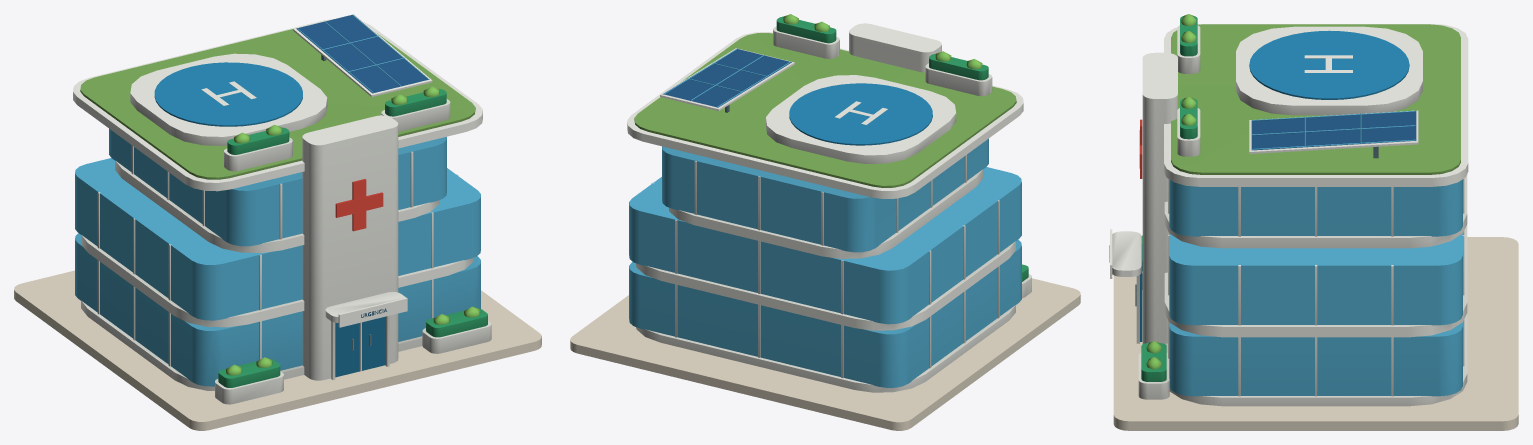
Rendered from hospital-low.glb.
3 renders of one model, left to right at view 1: azimuth 30°, elevation 25°; view 2: azimuth 150°, elevation 25°; view 3: azimuth 270°, elevation 25°, orthographic. The views are drawn at different scales.
Visible parts, largest first — view 1: continuous blue glazing, curving medical floor, hospital foundation, medical garden roof, helipad blue disc, photovoltaic cells, planter foliage, red medical cross, shrub tip; view 2: continuous blue glazing, curving medical floor, hospital foundation, medical garden roof, helipad blue disc, photovoltaic cells, planter foliage, shrub tip; view 3: continuous blue glazing, curving medical floor, hospital foundation, medical garden roof, helipad blue disc, photovoltaic cells, planter foliage, shrub tip.
Part boxes in pixels (x1=…): continuous blue glazing: x1=75, y1=14, x2=480, y2=386; curving medical floor: x1=73, y1=14, x2=491, y2=404; hospital foundation: x1=14, y1=270, x2=541, y2=430; medical garden roof: x1=80, y1=29, x2=475, y2=179; helipad blue disc: x1=154, y1=62, x2=385, y2=377; photovoltaic cells: x1=296, y1=15, x2=429, y2=93; planter foliage: x1=218, y1=89, x2=487, y2=387; red medical cross: x1=335, y1=179, x2=383, y2=231; shrub tip: x1=226, y1=86, x2=480, y2=375; continuous blue glazing: x1=629, y1=48, x2=1021, y2=387; curving medical floor: x1=627, y1=23, x2=1031, y2=392; hospital foundation: x1=570, y1=278, x2=1080, y2=430; medical garden roof: x1=634, y1=33, x2=1016, y2=187; helipad blue disc: x1=789, y1=83, x2=932, y2=145; photovoltaic cells: x1=663, y1=49, x2=791, y2=107; planter foliage: x1=776, y1=16, x2=1028, y2=281; shrub tip: x1=783, y1=14, x2=982, y2=69; continuous blue glazing: x1=1169, y1=110, x2=1462, y2=396; curving medical floor: x1=1110, y1=24, x2=1468, y2=406; hospital foundation: x1=1113, y1=237, x2=1518, y2=430; medical garden roof: x1=1171, y1=24, x2=1460, y2=174; helipad blue disc: x1=1140, y1=30, x2=1409, y2=341; photovoltaic cells: x1=1251, y1=111, x2=1416, y2=150; planter foliage: x1=1141, y1=16, x2=1197, y2=381; shrub tip: x1=1146, y1=14, x2=1196, y2=369.
Bounding box in the file's own units: 4.9 × 3.41 × 4.6.
